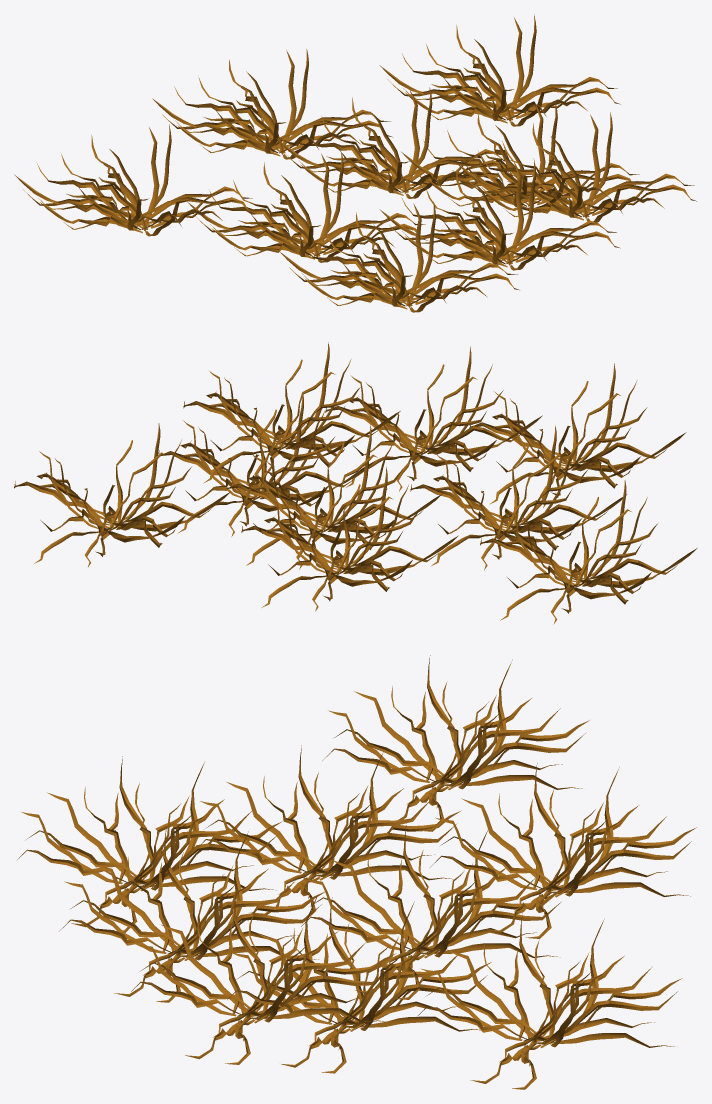
File: Roots.fbx
The picture shows the model from 3 angles, top to bottom: view 1: azimuth 30°, elevation 25°; view 2: azimuth 150°, elevation 25°; view 3: azimuth 270°, elevation 25°; orthographic projection. The views are drawn at different scales.
Visible parts, largest first — view 1: root_8; view 2: root_8; view 3: root_8.
Boxes of the visible parts, x1=… form: root_8: x1=14, y1=14, x2=696, y2=312; root_8: x1=14, y1=342, x2=697, y2=624; root_8: x1=17, y1=655, x2=696, y2=1089.
Bounding box in the file's own units: 22.87 × 3.83 × 18.27.
